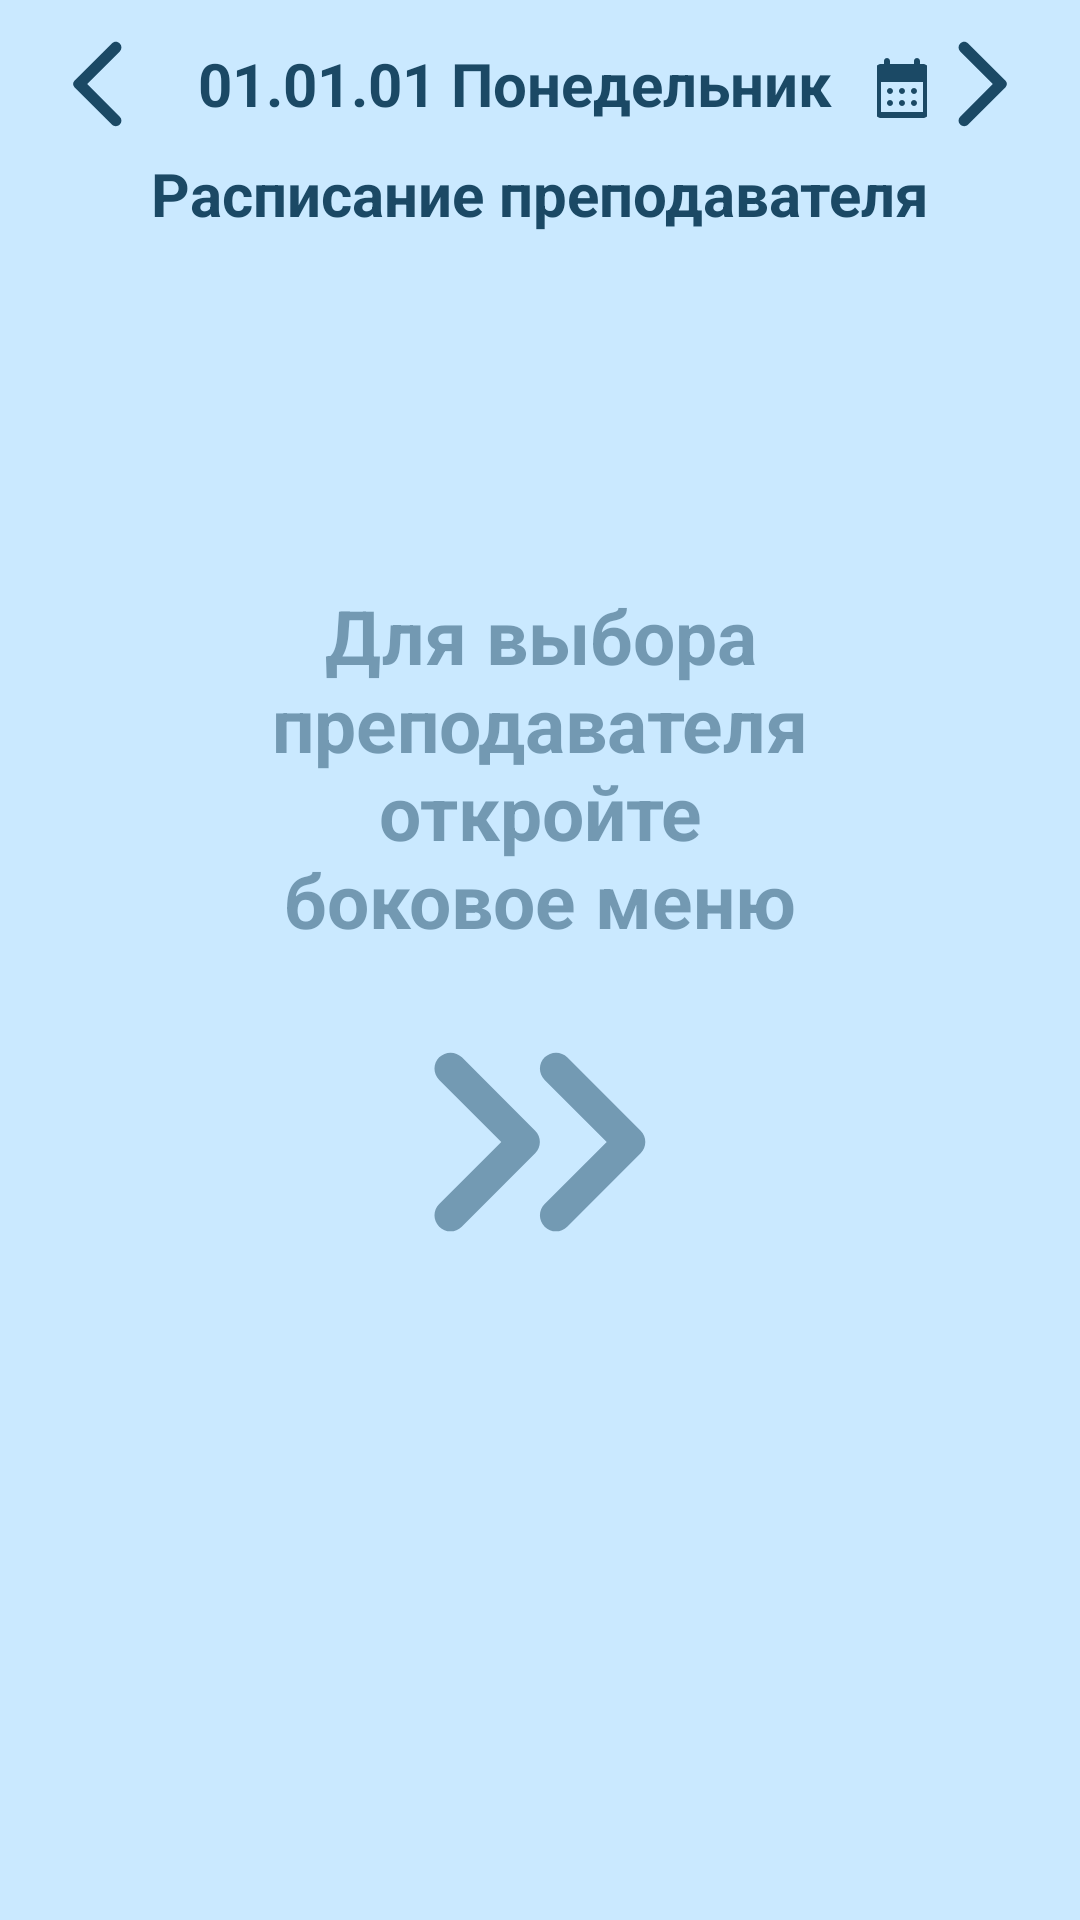

Point at icon controls on the screen. Image size 1080 x 1920, points as (x,y).
calendaar: (902,88)
double arrow: (539,1142)
left: (97,84)
right: (982,84)
